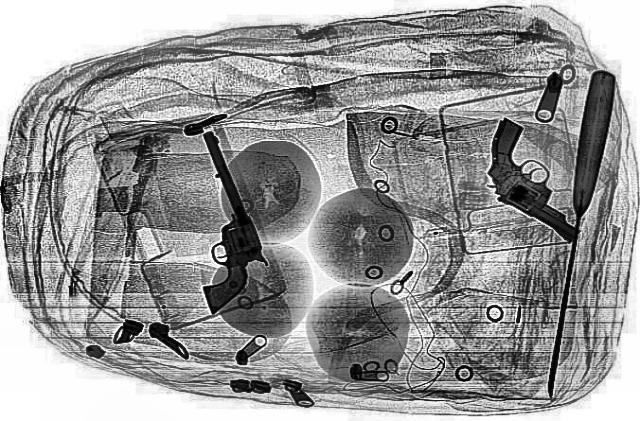Gun: (140, 130, 284, 313), (430, 116, 638, 238)
Knife: (534, 69, 618, 398)
